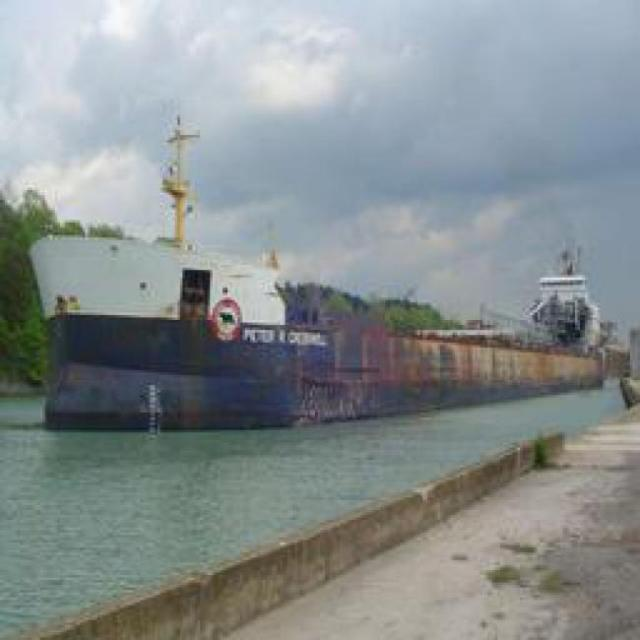boat: (29, 216, 604, 410)
